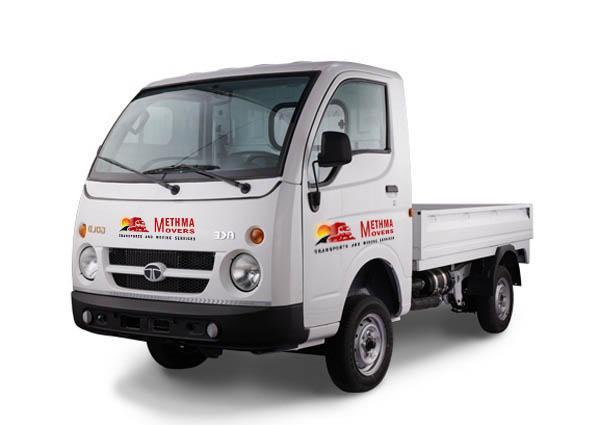truck: (71, 60, 533, 394)
